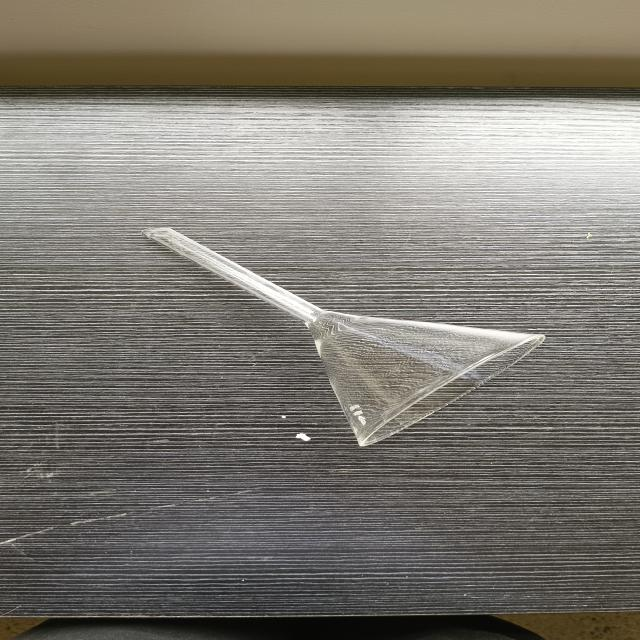funnel: (97, 202, 561, 458)
